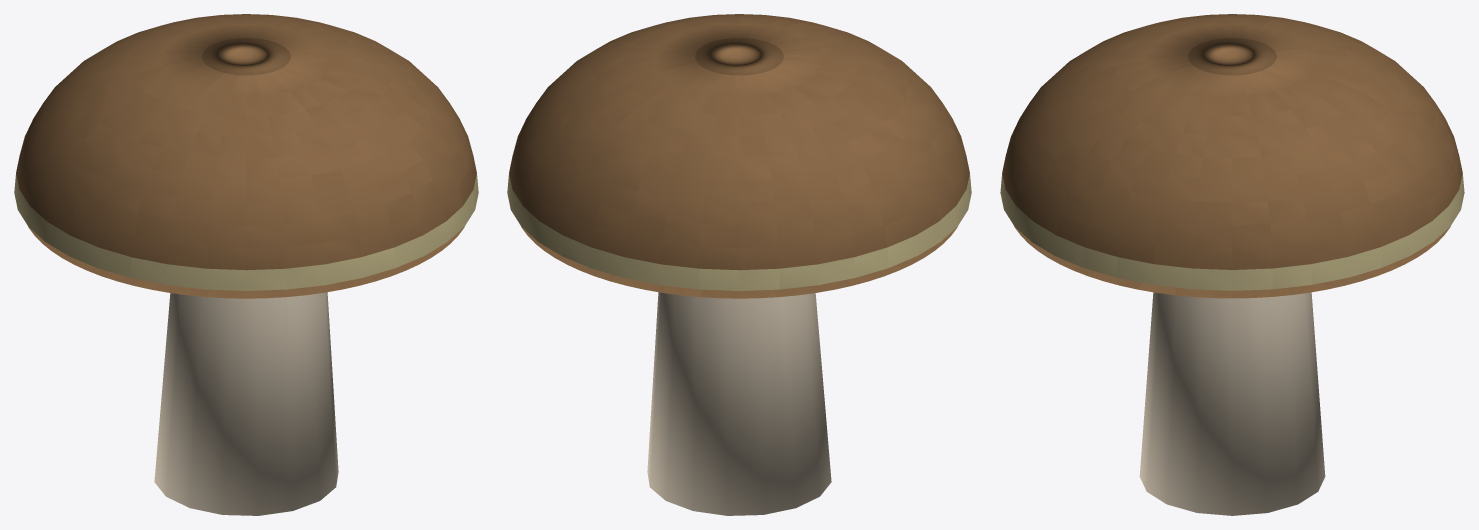
The model's file is mush_bolete.glb.
3 views of the same model, side by side, from view 1: azimuth 30°, elevation 25°; view 2: azimuth 150°, elevation 25°; view 3: azimuth 270°, elevation 25° (orthographic).
Parts seen in each view (by area): view 1: mush_bolete; view 2: mush_bolete; view 3: mush_bolete.
Boxes of the visible parts, <box> form: mush_bolete: <box>14,14,478,515</box>; mush_bolete: <box>507,14,971,515</box>; mush_bolete: <box>1000,14,1464,515</box>.
Bounding box in the file's own units: 0.08 × 0.08 × 0.08.
